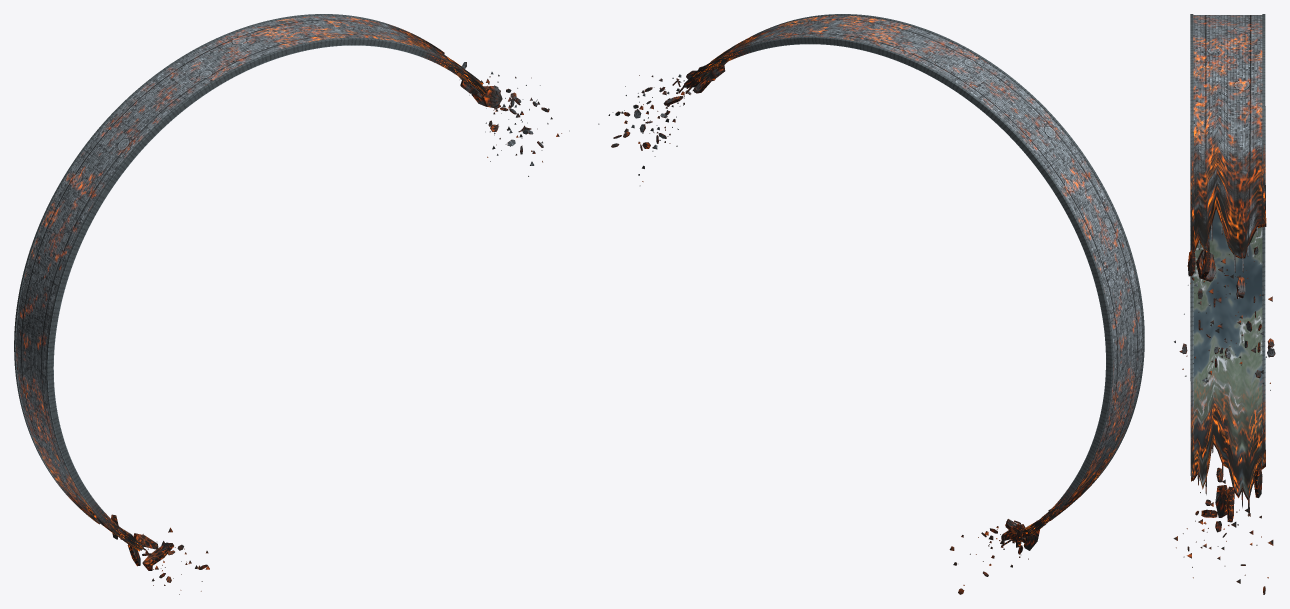
The model's file is broken-ring.glb.
3 renders of one model, left to right at view 1: azimuth 30°, elevation 25°; view 2: azimuth 150°, elevation 25°; view 3: azimuth 270°, elevation 25°, orthographic. The views are drawn at different scales.
Visible parts, largest first — view 1: Broken ring / habitat and superstructure, Debris / all opaque shards batched into one mesh; view 2: Broken ring / habitat and superstructure, Debris / all opaque shards batched into one mesh; view 3: Broken ring / habitat and superstructure, Debris / all opaque shards batched into one mesh.
Boxes of the visible parts, x1=… form: Broken ring / habitat and superstructure: x1=14, y1=14, x2=487, y2=551; Debris / all opaque shards batched into one mesh: x1=111, y1=62, x2=569, y2=594; Broken ring / habitat and superstructure: x1=678, y1=14, x2=1144, y2=545; Debris / all opaque shards batched into one mesh: x1=598, y1=64, x2=1045, y2=594; Broken ring / habitat and superstructure: x1=1190, y1=14, x2=1266, y2=516; Debris / all opaque shards batched into one mesh: x1=1173, y1=234, x2=1275, y2=594.
Bounding box in the file's own units: 20.99 × 20.49 × 3.15.
Materials: 1 (1 with a texture image).
